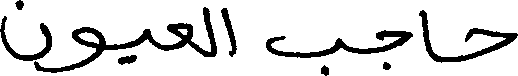ا: (219, 6, 238, 58), (419, 7, 436, 61)
ب: (264, 33, 339, 74)
ج: (373, 28, 410, 70)
ح: (463, 25, 516, 60)
ع: (164, 20, 193, 51)
ل: (200, 5, 217, 57)
ن: (0, 0, 51, 73)
و: (70, 25, 105, 70)
ي: (116, 26, 151, 65)
